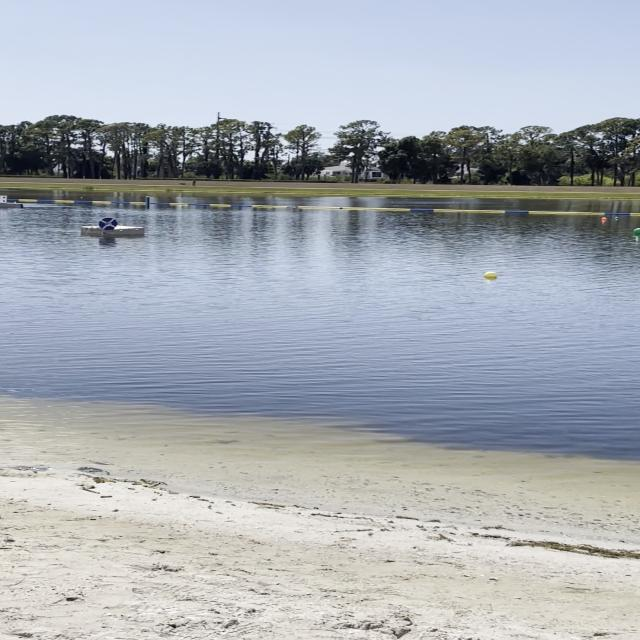buoy: (476, 268, 506, 284), (599, 216, 610, 222)
